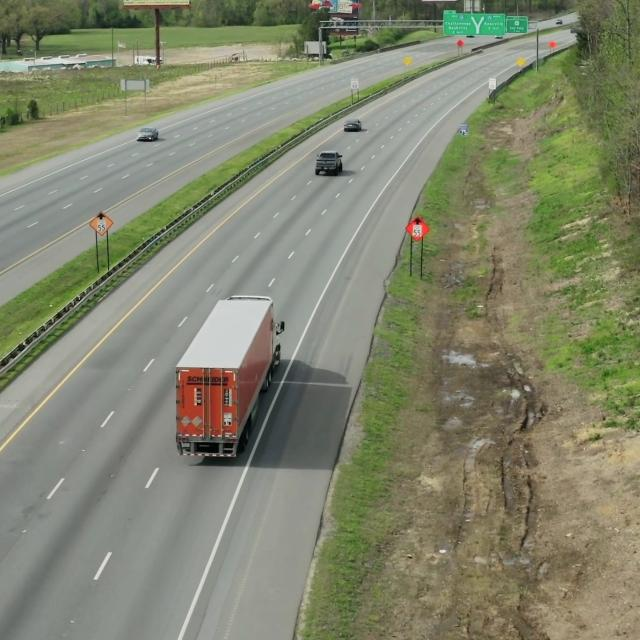Car: (170, 287, 286, 464), (312, 150, 347, 178), (136, 124, 164, 145)
